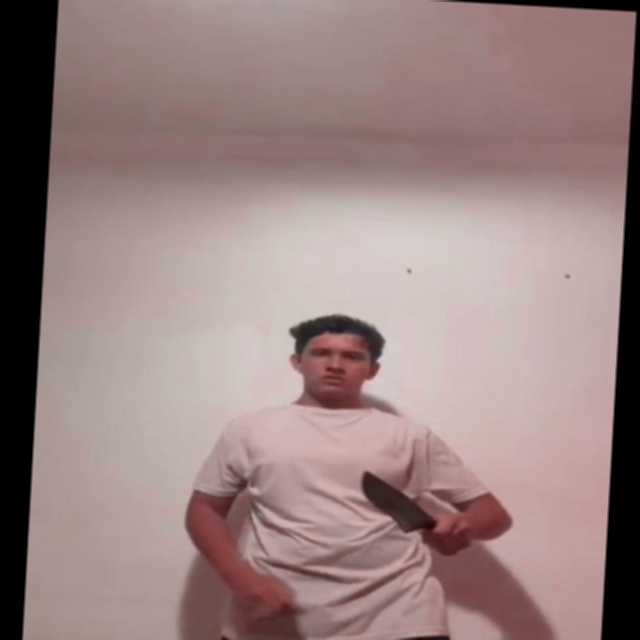Sharp-Object: (357, 470, 424, 529)
